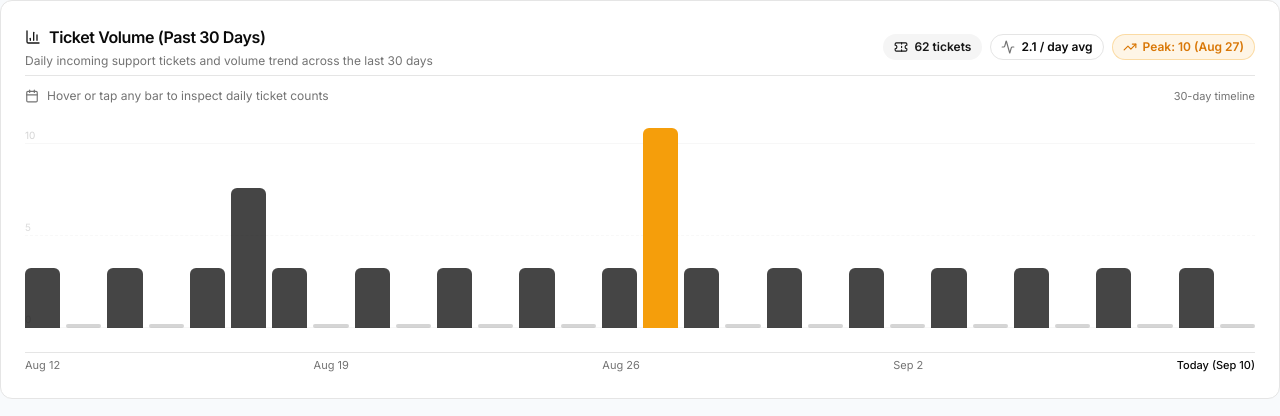
Test case: TicketsPerDayChart Component Tests › 2. Hover & Interaction States › shows floating tooltip and updates active status bar when hovering over a bar
Peak bar is at index 15 with 10 tickets
Hover over the button with test id "bar-day-15" at (661, 228), box top-left (643, 128), bottom-right (678, 328)
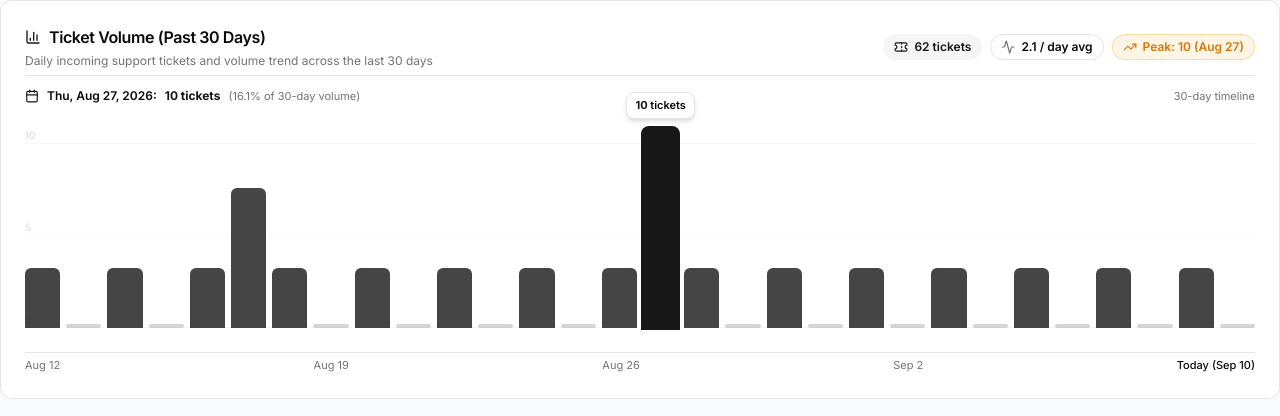
Now the element with test id "floating-tooltip" reads "10 tickets", box top-left (626, 92), bottom-right (695, 118)
Now the element with test id "hover-info" shows "10 tickets", box top-left (25, 88), bottom-right (360, 104)
Now the element with test id "hover-info" shows "% of 30-day volume", box top-left (250, 89), bottom-right (360, 103)
